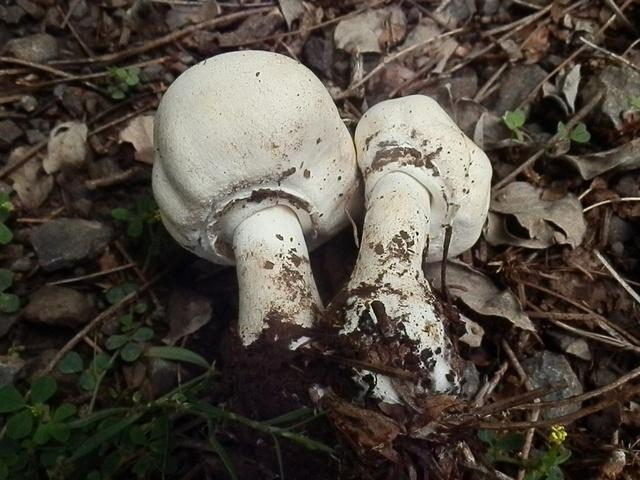Non-edible Mushroom: (149, 47, 362, 350), (324, 92, 494, 410)
